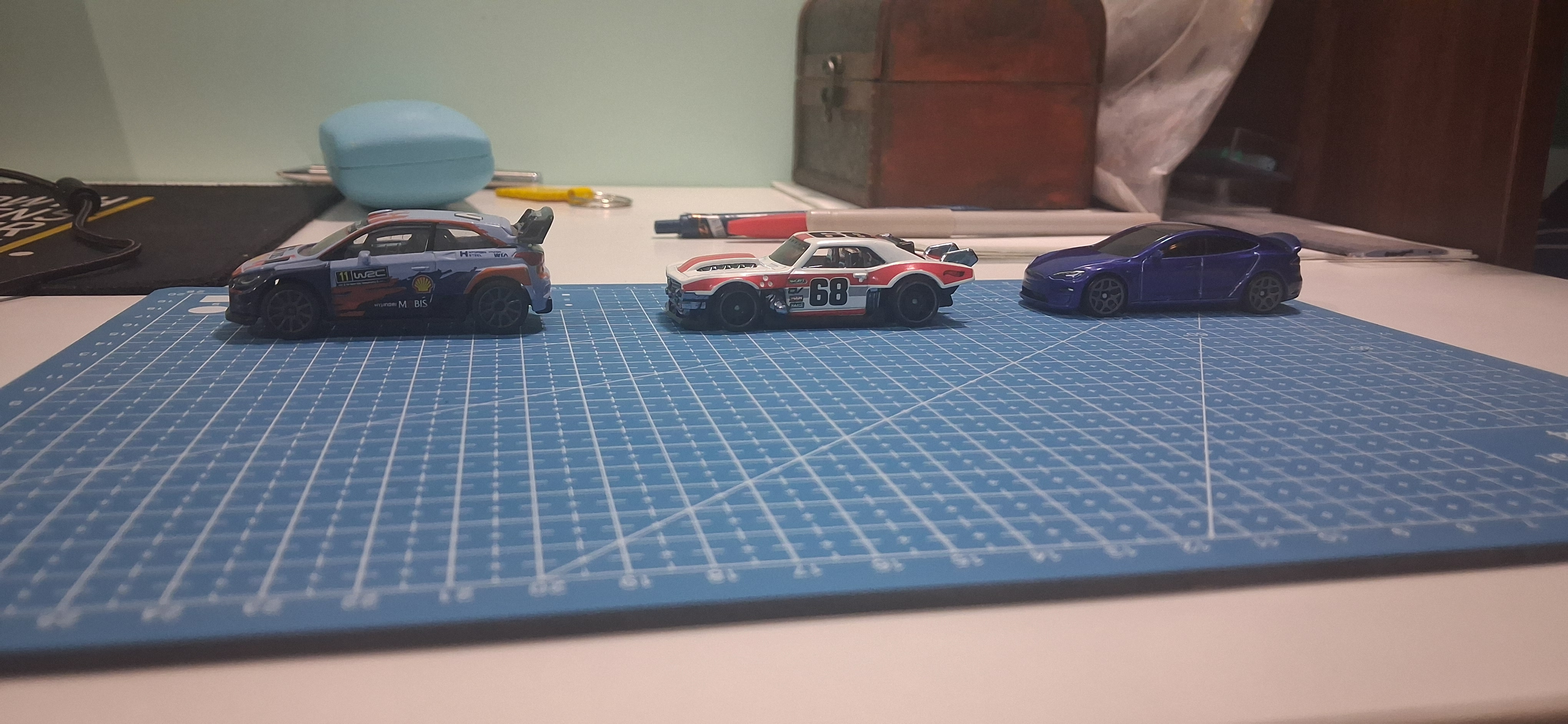Camaro: (634, 196, 989, 369)
Hyundai_I20_WRC: (197, 170, 570, 355)
Tesla_Model_S_Plaid: (1010, 204, 1330, 349)
